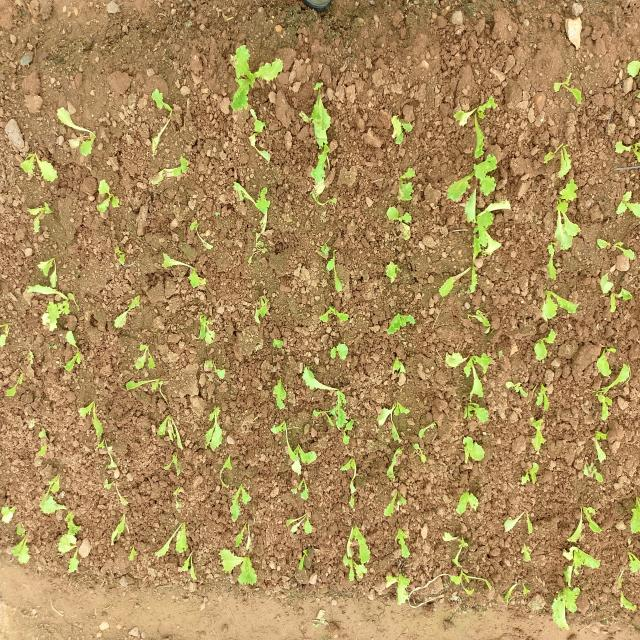Lettuce: (10, 255, 86, 334), (224, 43, 289, 110), (239, 116, 297, 179), (77, 388, 121, 471), (231, 169, 288, 232), (103, 285, 160, 348), (142, 146, 196, 212), (442, 349, 509, 402), (52, 347, 117, 398), (12, 183, 68, 241), (60, 100, 102, 172), (454, 94, 500, 158), (155, 525, 202, 587), (448, 150, 498, 207), (583, 363, 632, 421), (300, 84, 341, 150), (467, 200, 512, 258), (216, 535, 262, 590), (139, 80, 184, 136), (30, 465, 73, 523), (23, 140, 66, 196), (438, 259, 486, 309), (86, 169, 128, 224), (550, 571, 586, 632), (202, 399, 230, 470), (126, 343, 162, 398), (449, 564, 494, 608), (0, 320, 33, 379), (541, 282, 580, 331), (110, 230, 148, 280), (340, 519, 370, 581), (543, 132, 574, 192), (505, 502, 544, 549), (559, 545, 604, 585), (554, 182, 579, 252), (150, 231, 182, 285), (58, 519, 84, 582), (278, 440, 320, 478), (596, 270, 634, 311), (387, 108, 421, 152), (621, 545, 640, 623), (378, 393, 410, 438), (566, 502, 603, 540), (322, 242, 348, 296), (582, 425, 619, 462), (226, 477, 254, 525), (3, 532, 36, 572), (336, 454, 366, 498), (503, 371, 533, 415), (384, 200, 415, 241), (193, 306, 217, 358), (311, 142, 338, 188), (609, 126, 640, 165), (332, 378, 356, 428), (453, 480, 479, 526), (442, 530, 473, 568), (594, 235, 636, 263), (386, 304, 416, 342), (381, 445, 413, 480), (291, 542, 324, 575), (384, 565, 411, 605), (466, 300, 495, 337), (594, 338, 622, 376), (513, 458, 548, 488), (0, 491, 20, 543), (533, 321, 557, 364), (384, 481, 409, 522), (318, 302, 354, 330), (190, 220, 217, 257), (101, 475, 134, 505), (235, 516, 258, 559), (507, 578, 535, 613), (555, 73, 584, 106), (185, 267, 216, 297), (266, 413, 298, 442), (397, 169, 420, 207), (326, 337, 355, 367), (296, 365, 324, 396), (248, 229, 270, 268), (306, 186, 340, 211), (336, 416, 358, 454), (542, 240, 561, 284), (462, 397, 489, 427), (113, 511, 134, 549), (158, 417, 182, 450), (389, 351, 412, 385), (532, 377, 552, 416), (393, 522, 412, 563), (271, 379, 292, 416), (254, 292, 275, 329), (37, 428, 59, 463), (614, 192, 640, 220), (530, 412, 546, 457), (205, 349, 228, 380), (289, 516, 318, 540), (626, 494, 640, 542), (286, 480, 311, 503), (581, 461, 603, 486), (164, 449, 183, 476), (384, 259, 401, 287), (521, 536, 533, 570), (272, 332, 288, 356), (173, 482, 185, 512)
